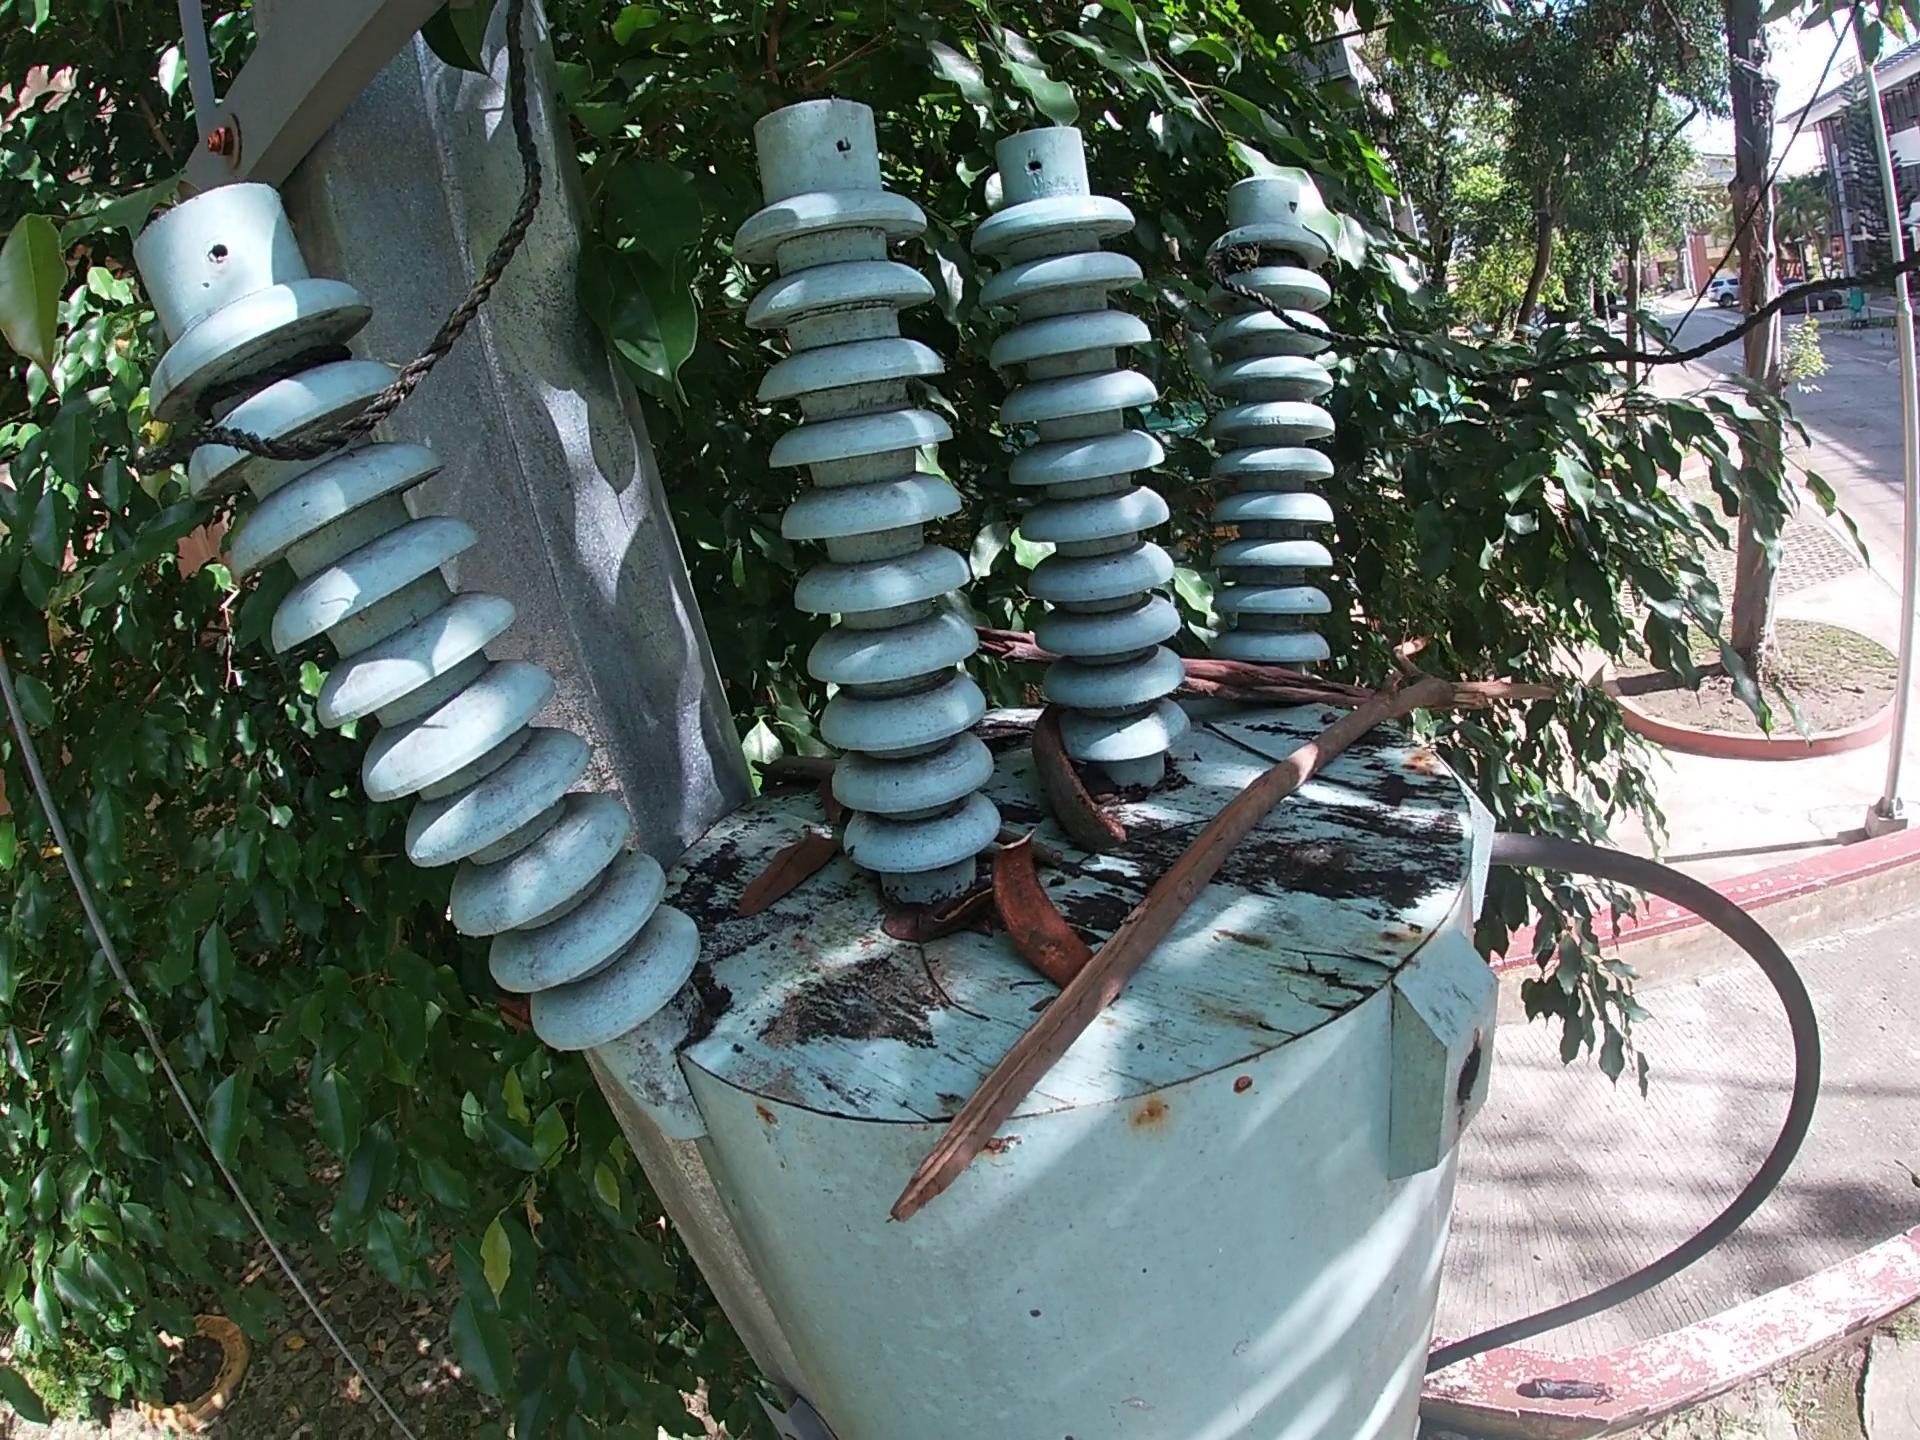leaf: (732, 836, 835, 926), (874, 908, 951, 950)
mahogany fruit: (1023, 703, 1132, 865), (989, 833, 1089, 982)
tree branch: (878, 626, 1601, 1242), (1173, 641, 1386, 720), (909, 936, 1007, 1032), (1305, 774, 1463, 812), (962, 617, 1052, 672), (1205, 711, 1282, 765), (797, 759, 847, 829), (937, 886, 996, 942), (993, 836, 1079, 874), (735, 743, 844, 768)
